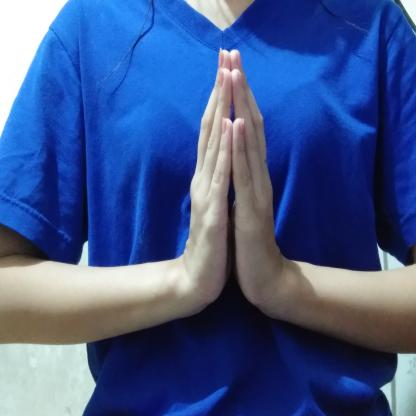sorry: (159, 44, 299, 332)
